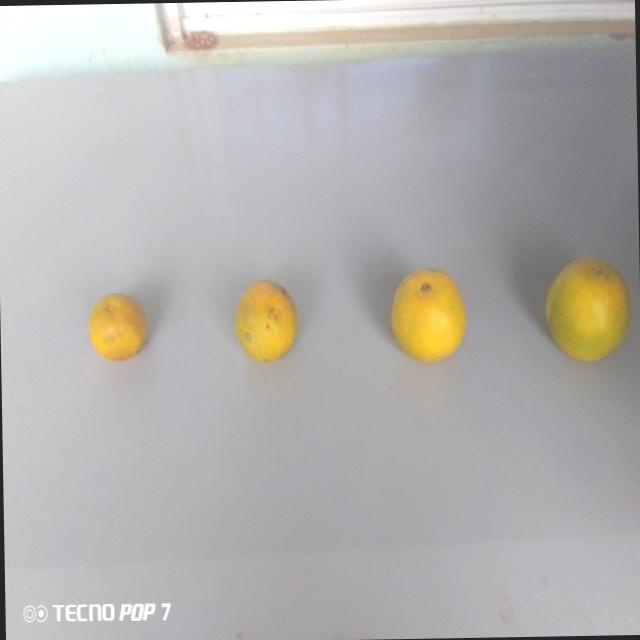agrume: (543, 247, 633, 373), (383, 260, 477, 375), (226, 271, 302, 372), (86, 283, 154, 365)
